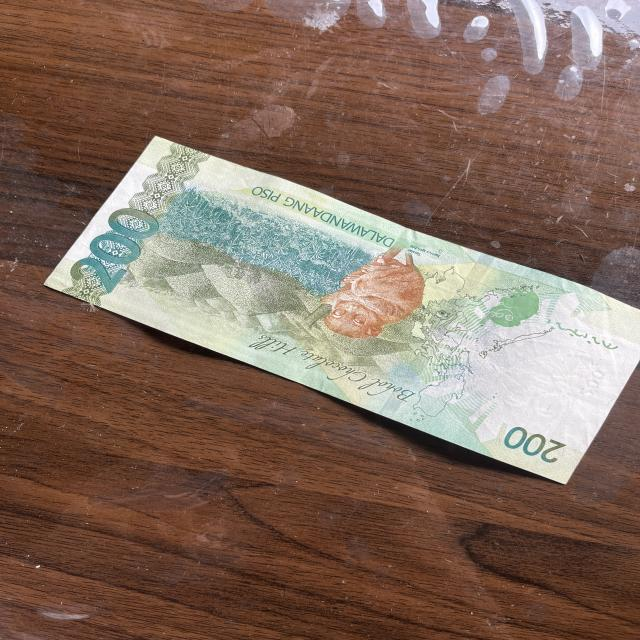200_tarsier: (306, 235, 454, 362)
200_tarsier_watermark: (461, 264, 547, 339)
value_watermark: (577, 372, 622, 415)
watermark: (476, 341, 599, 438)
